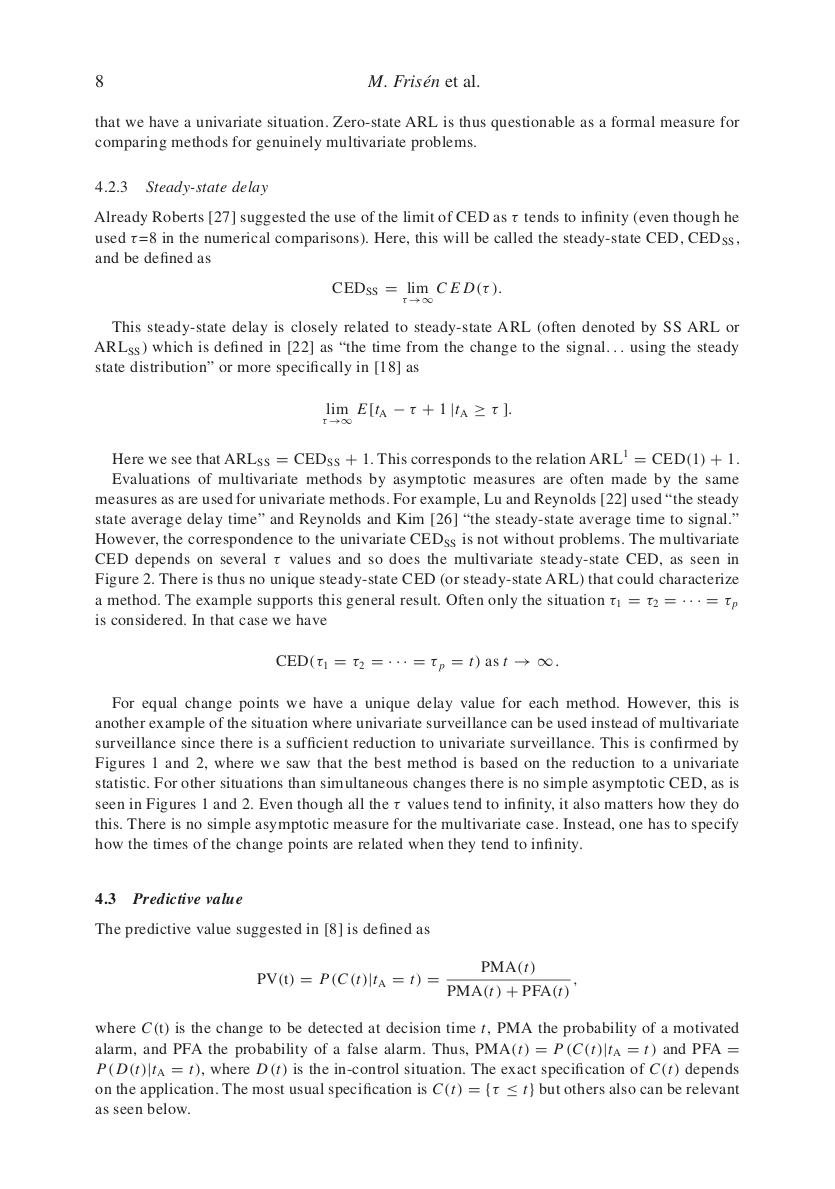formula: (257, 960, 576, 999), (276, 654, 557, 672), (322, 402, 510, 424), (332, 281, 500, 303)
